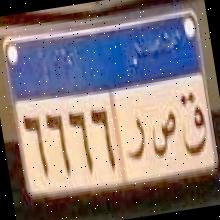6: (64, 104, 96, 182), (86, 100, 118, 174), (42, 107, 73, 181), (20, 109, 50, 182)
qaaf: (175, 86, 211, 162)
raa: (117, 106, 151, 166)
saad: (146, 104, 182, 162)
